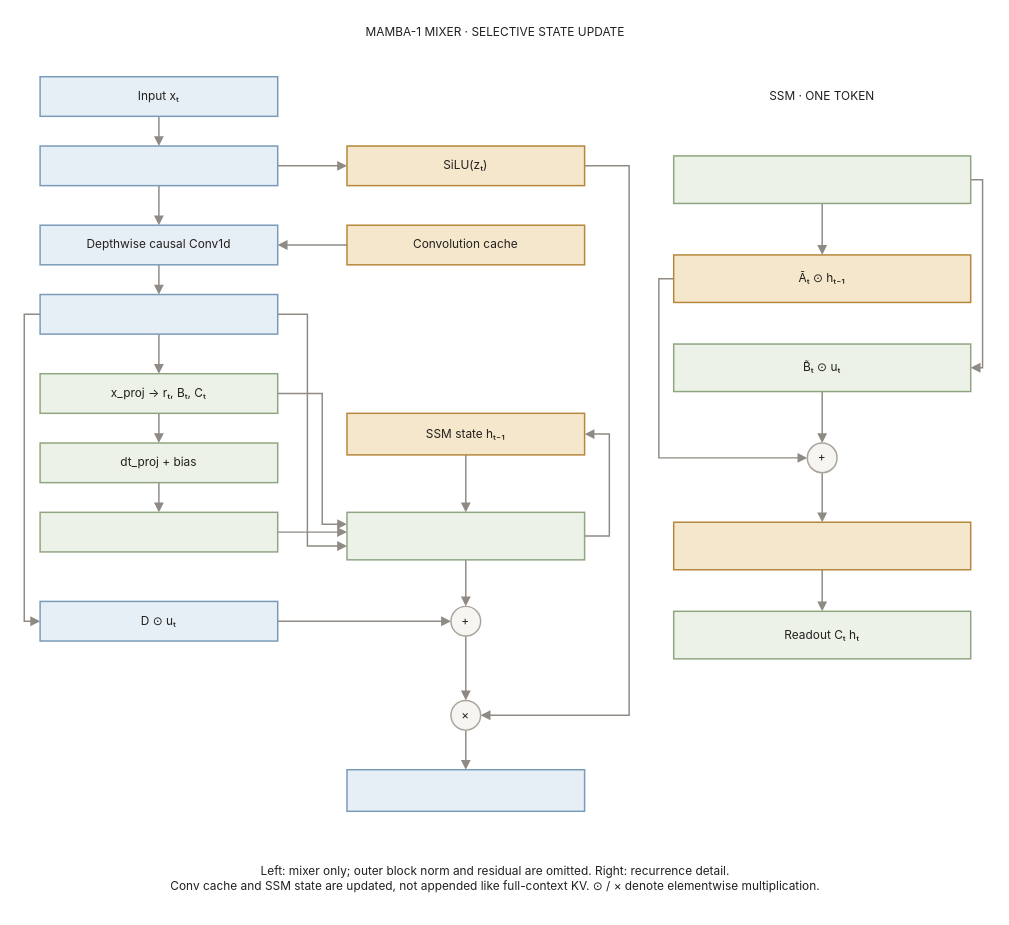
Image size: 1009x925. Some labels were removed from this diagram. Here are the shapes that lost their labels. From the top down, the centre of each, then its label:
At point 158,165: "in_proj · split content / z".
At point 822,179: "Discretize Āₜ = exp(Δₜ A), B̃ₜ = Δₜ Bₜ".
At point 158,313: "SiLU → uₜ".
At point 158,531: "Softplus → Δₜ".
At point 465,535: "Selective SSM expanded at right".
At point 822,545: "Write hₜ to SSM cache".
At point 465,790: "out_proj".
